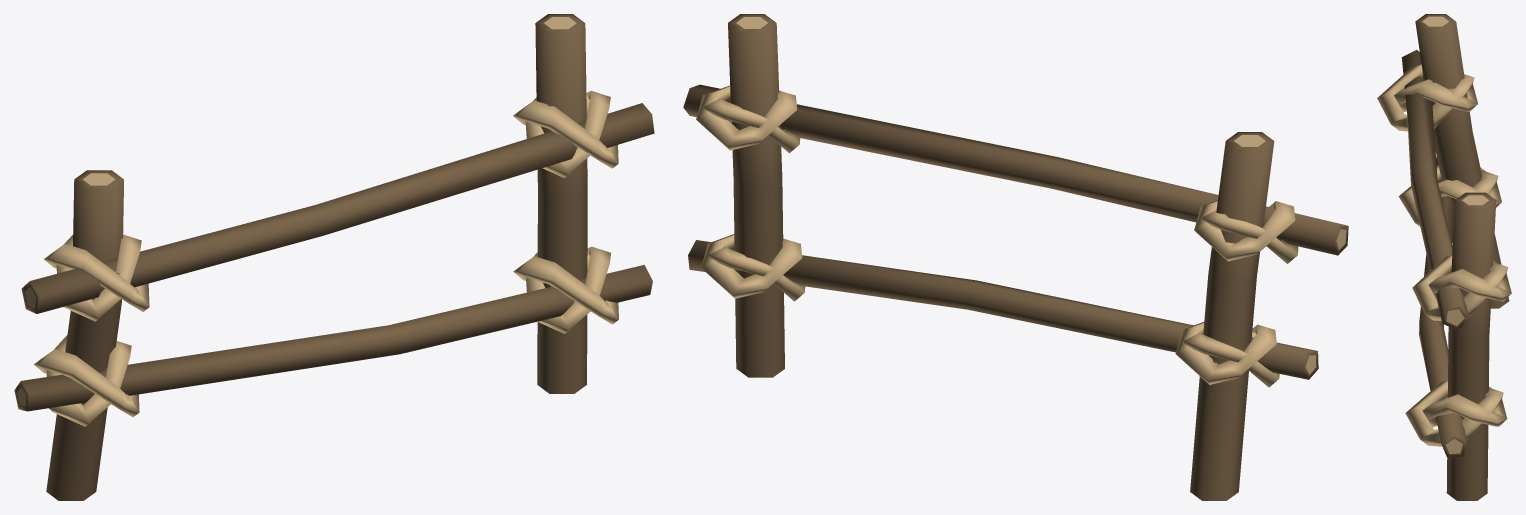
File: rpgpp_ag_fence_01a_2m.fbx
The picture shows the model from 3 angles, left to right: view 1: azimuth 30°, elevation 25°; view 2: azimuth 150°, elevation 25°; view 3: azimuth 270°, elevation 25°; orthographic projection. The views are drawn at different scales.
Parts seen in each view (by area): view 1: rpgpp_ag_fence_01a_2m; view 2: rpgpp_ag_fence_01a_2m; view 3: rpgpp_ag_fence_01a_2m.
Boxes of the visible parts, <box> form: rpgpp_ag_fence_01a_2m: <box>14,14,654,500</box>; rpgpp_ag_fence_01a_2m: <box>683,14,1348,500</box>; rpgpp_ag_fence_01a_2m: <box>1377,14,1511,500</box>.
Size of the model in its own units: 2.79 by 1.48 by 0.6142.
